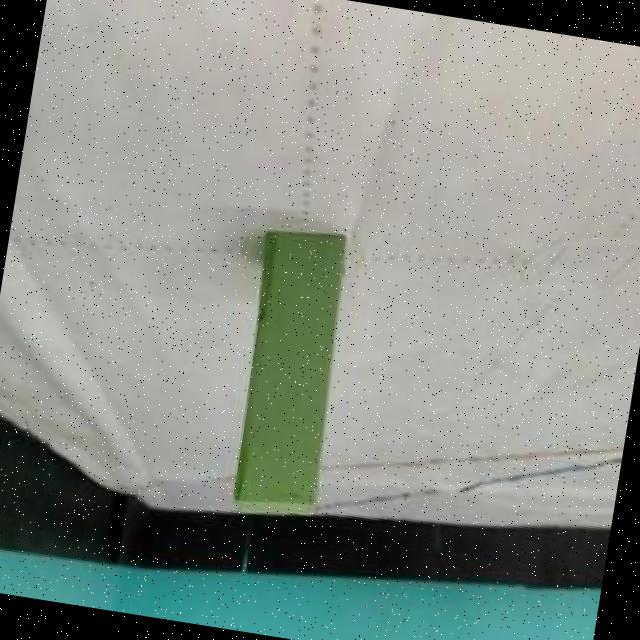greenbox: (218, 219, 364, 523)
